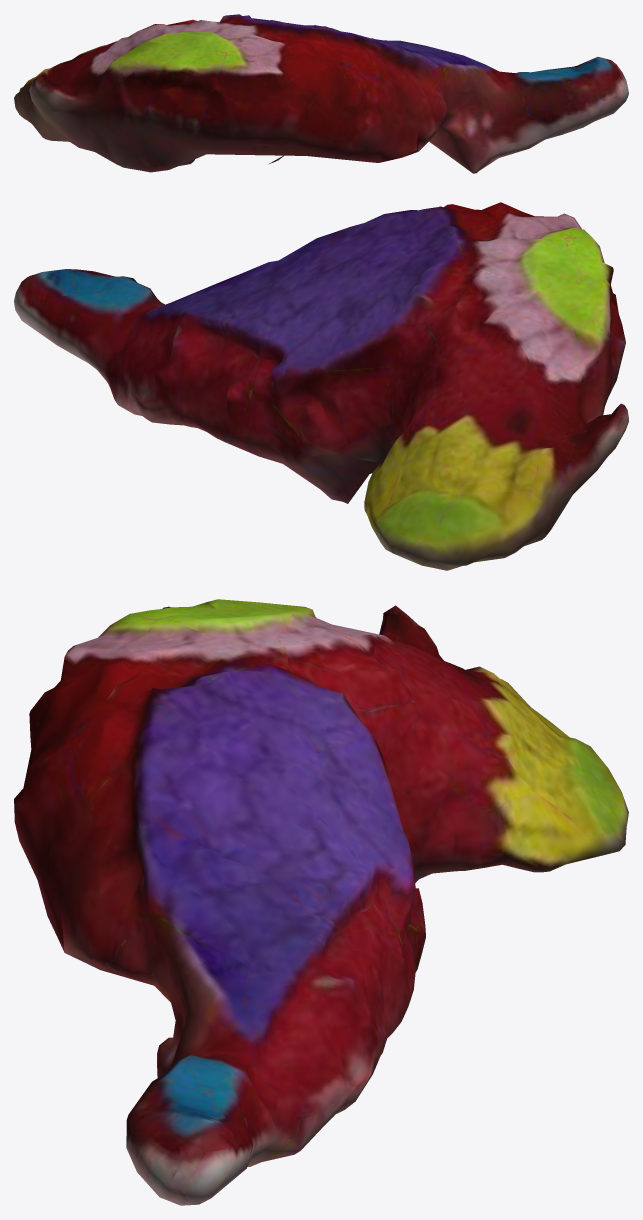
The model's file is hall.glb.
3 views of the same model, one above another, from view 1: azimuth 30°, elevation 25°; view 2: azimuth 150°, elevation 25°; view 3: azimuth 270°, elevation 25° (orthographic). The views are drawn at different scales.
Bounding box in the file's own units: 1.01 × 0.3476 × 0.6087.
Materials: 1 (1 with a texture image).
